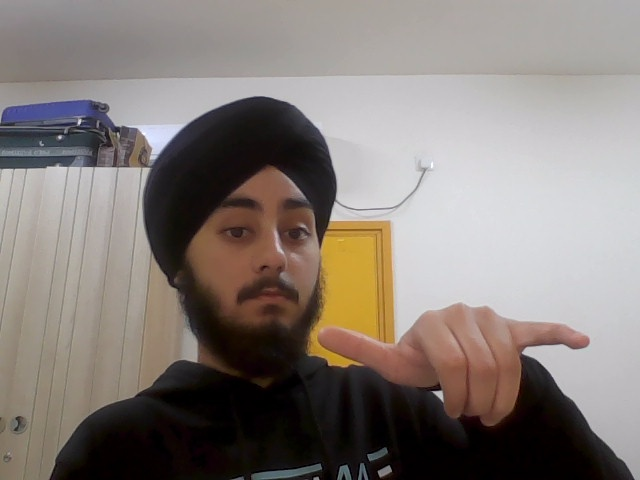Same: (316, 296, 597, 428)
